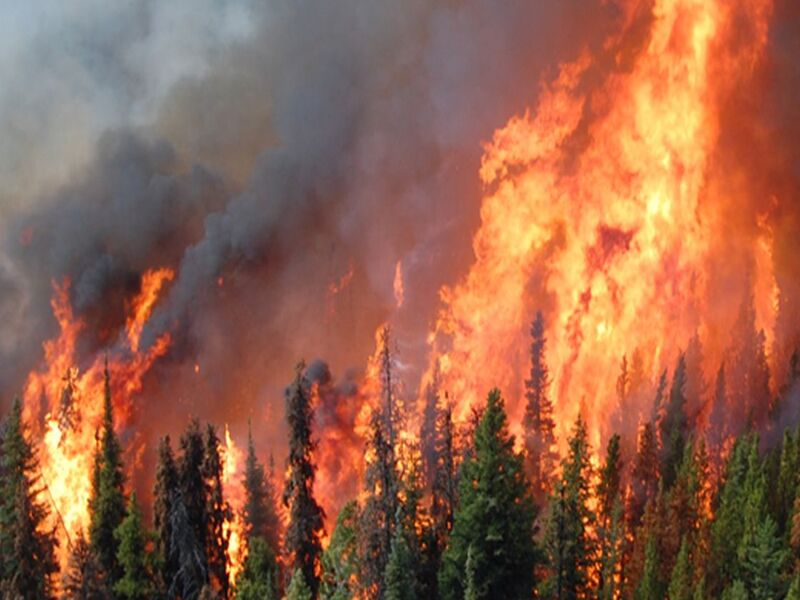fire: (430, 51, 779, 461)
